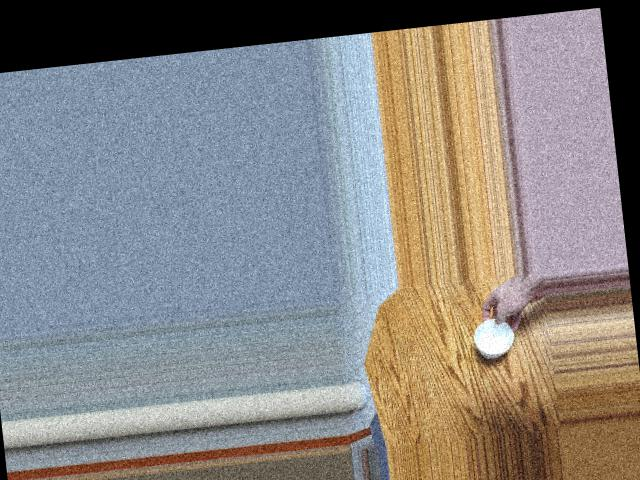cotage: (465, 315, 516, 359)
